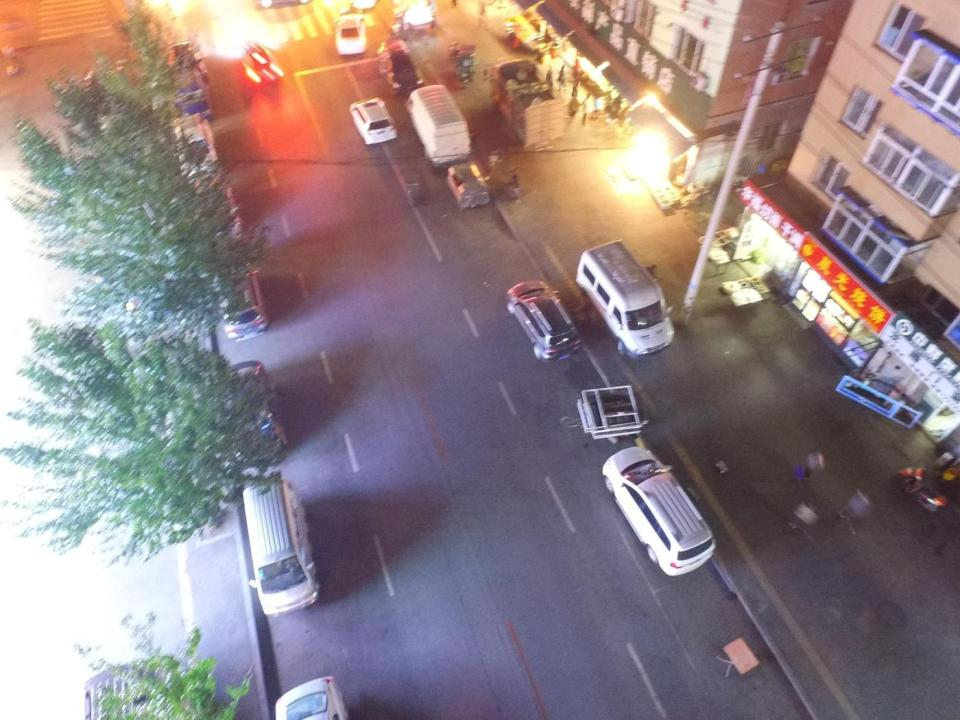car: (216, 359, 283, 466), (506, 279, 583, 364), (212, 260, 269, 339), (189, 179, 242, 250), (273, 674, 349, 720), (171, 112, 219, 178), (348, 95, 398, 146), (447, 159, 491, 211), (168, 34, 208, 82), (174, 79, 211, 124), (333, 12, 367, 55)
truck: (491, 56, 568, 154)
van: (602, 445, 718, 577), (574, 237, 676, 358), (242, 475, 320, 616), (83, 653, 189, 720), (404, 82, 472, 166), (376, 37, 422, 95)
